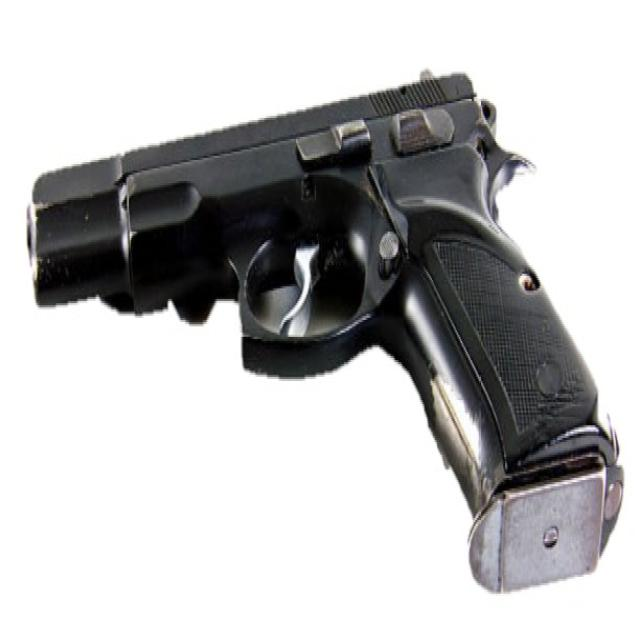pistol: (22, 50, 630, 601)
